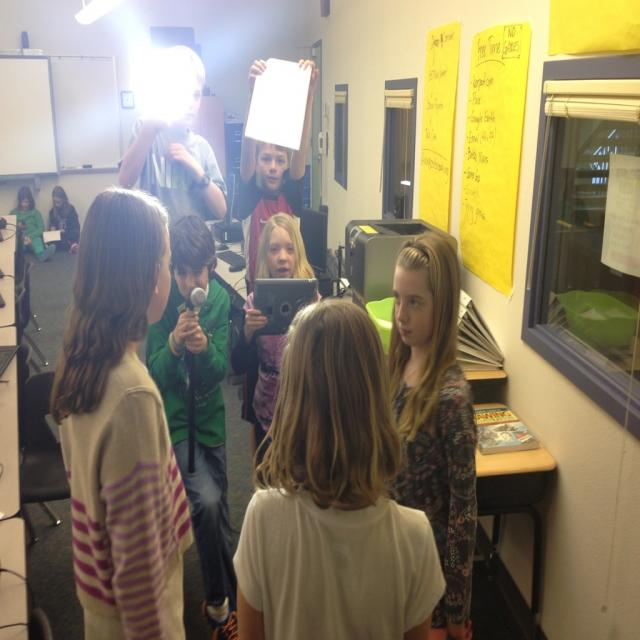chair: (18, 372, 70, 546)
desk: (0, 517, 30, 640)
laptop: (254, 278, 315, 337)
person: (233, 296, 448, 640), (50, 190, 196, 638), (385, 231, 480, 640), (148, 214, 238, 634), (235, 210, 318, 462), (117, 44, 228, 232), (8, 186, 56, 261), (47, 186, 81, 251)
